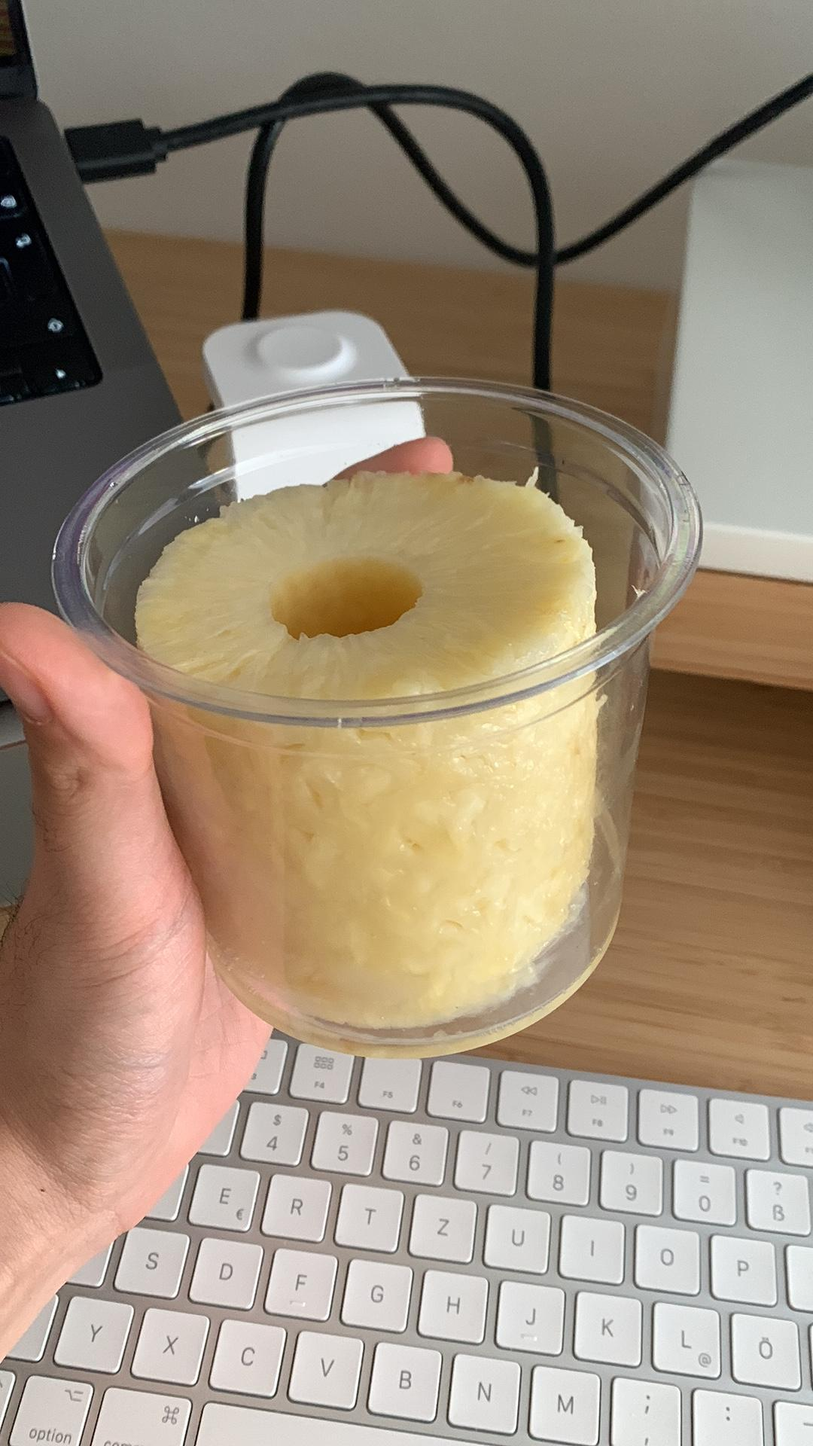pineapple: (132, 467, 602, 1036)
